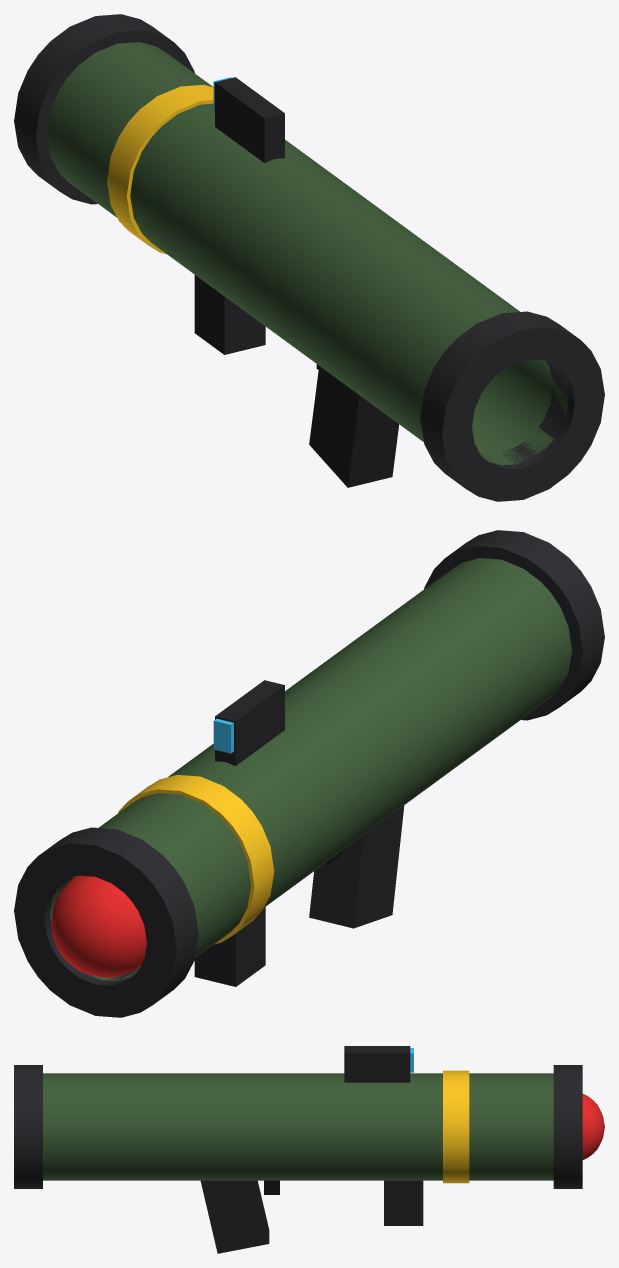
Rendered from rocket_launcher.obj.
The picture shows the model from 3 angles, top to bottom: view 1: azimuth 30°, elevation 25°; view 2: azimuth 150°, elevation 25°; view 3: azimuth 270°, elevation 25°; orthographic projection. The views are drawn at different scales.
Visible parts, largest first — view 1: Tube, BackRing, FrontRing, Grip, Stripe, Sight, FrontGrip; view 2: Tube, FrontRing, BackRing, RocketNose, Grip, Stripe, Sight, FrontGrip, SightGlass; view 3: Tube, Grip, FrontRing, BackRing, Stripe, Sight, FrontGrip, RocketNose.
Boxes of the visible parts, x1=… form: Tube: x1=47, y1=42, x2=568, y2=465; BackRing: x1=420, y1=311, x2=604, y2=501; FrontRing: x1=14, y1=14, x2=194, y2=204; Grip: x1=309, y1=366, x2=399, y2=487; Stripe: x1=107, y1=84, x2=213, y2=254; Sight: x1=215, y1=77, x2=284, y2=162; FrontGrip: x1=194, y1=275, x2=265, y2=354; Tube: x1=50, y1=558, x2=571, y2=980; FrontRing: x1=14, y1=827, x2=198, y2=1017; BackRing: x1=424, y1=530, x2=604, y2=720; RocketNose: x1=51, y1=875, x2=146, y2=977; Grip: x1=309, y1=805, x2=404, y2=928; Stripe: x1=118, y1=775, x2=274, y2=944; Sight: x1=215, y1=680, x2=284, y2=765; FrontGrip: x1=194, y1=907, x2=265, y2=986; SightGlass: x1=213, y1=718, x2=233, y2=753; Tube: x1=43, y1=1073, x2=553, y2=1180; Grip: x1=200, y1=1180, x2=269, y2=1253; FrontRing: x1=553, y1=1065, x2=582, y2=1188; BackRing: x1=14, y1=1065, x2=42, y2=1188; Stripe: x1=443, y1=1070, x2=469, y2=1183; Sight: x1=344, y1=1046, x2=410, y2=1082; FrontGrip: x1=384, y1=1180, x2=423, y2=1225; RocketNose: x1=582, y1=1094, x2=604, y2=1159.
Bounding box in the file's own units: 0.95 × 1.65 × 4.49.
